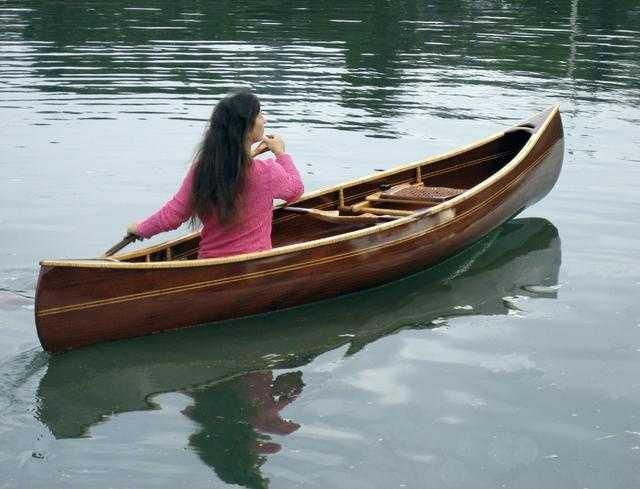kayak: (34, 103, 566, 354)
